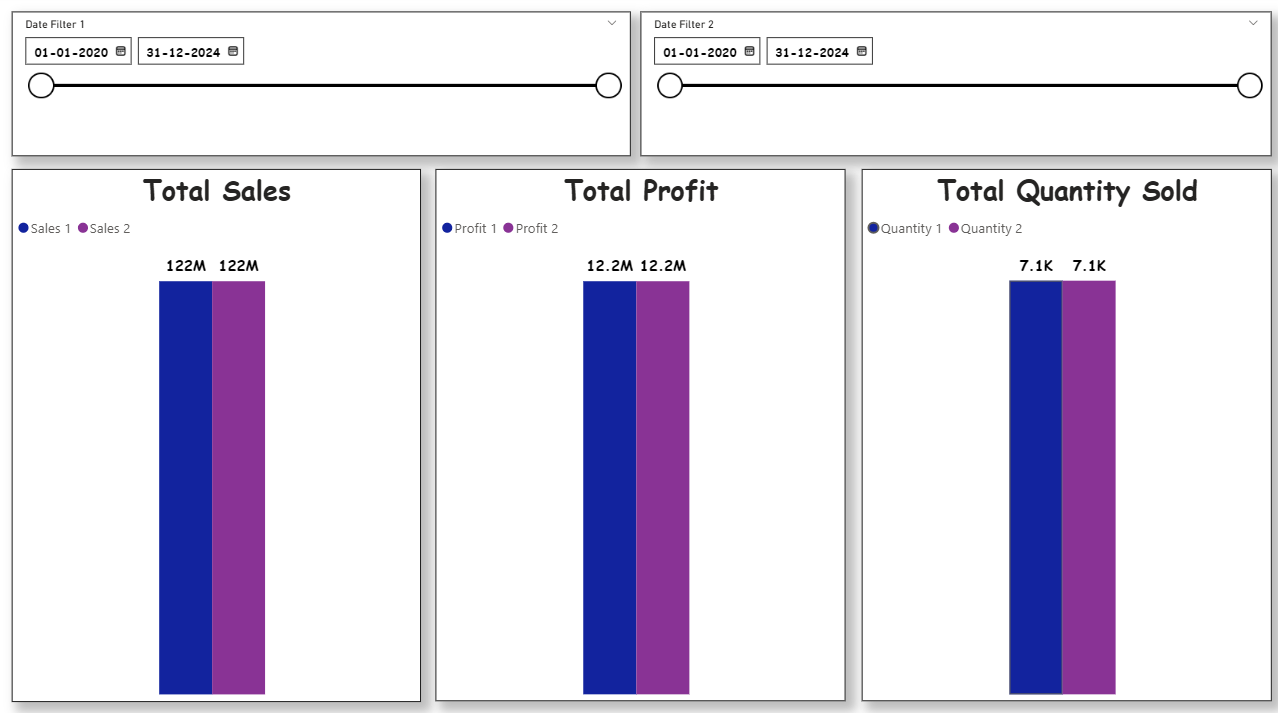

Layout of this report page (visuals, bound fields, positions):
{"tool":"powerbi","page":{"name":" Comparison sale/profit/quantity","canvas":[1280,720],"ordinal":2},"visuals":[{"type":"slicer","fields":{"Values":["Date Table 1.Date"]},"box":[13.7,17.4,615.8,144.3],"z":0},{"type":"slicer","fields":{"Values":["Date Table 2.Date"]},"box":[639.4,17.4,628.2,144.3],"z":1000},{"type":"clusteredColumnChart","title":"Total Sales","fields":{"Y":["Sum(fact Table.Net Sales   )","Date Table 1.Sum Of Net Sales"]},"box":[14.3,174.3,407.1,530],"z":2000},{"type":"clusteredColumnChart","title":"Total Profit","fields":{"Y":["Sum(fact Table.Profit )","Measures Table.Total Profit"]},"box":[435.4,174.2,408,529.9],"z":3000},{"type":"clusteredColumnChart","title":"Total Quantity  Sold","fields":{"Y":["Sum(fact Table.Units Sold)","Measures Table.Quantity Sold"]},"box":[859.6,174.2,408,529.9],"z":4000}]}

Visuals, with their boxes in screenshot pixels (x1, y1, x2, y2), scaled from the page's 1280x720 canvas onto the 1278x713 screenshot:
slicer - Date Table 1.Date: {"x1": 14, "y1": 17, "x2": 629, "y2": 160}
slicer - Date Table 2.Date: {"x1": 638, "y1": 17, "x2": 1266, "y2": 160}
"Total Sales" clusteredColumnChart: {"x1": 14, "y1": 173, "x2": 421, "y2": 697}
"Total Profit" clusteredColumnChart: {"x1": 435, "y1": 173, "x2": 842, "y2": 697}
"Total Quantity  Sold" clusteredColumnChart: {"x1": 858, "y1": 173, "x2": 1266, "y2": 697}
